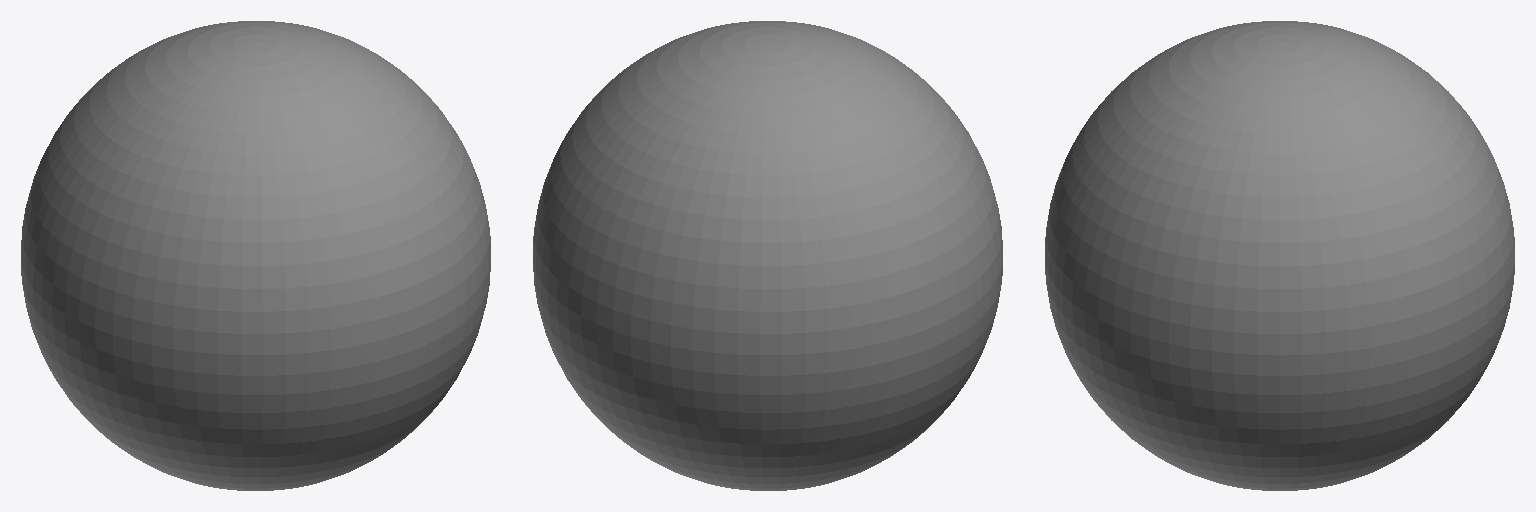
The model's file is mercury.obj.
3 renders of one model, left to right at view 1: azimuth 30°, elevation 25°; view 2: azimuth 150°, elevation 25°; view 3: azimuth 270°, elevation 25°, orthographic.
Visible parts, largest first — view 1: Sphere002; view 2: Sphere002; view 3: Sphere002.
Part boxes in pixels (x1,y1,x2,y2): Sphere002: (21, 21, 490, 490); Sphere002: (533, 21, 1002, 490); Sphere002: (1045, 21, 1514, 490).
Size of the model in its own units: 16 by 16 by 16.